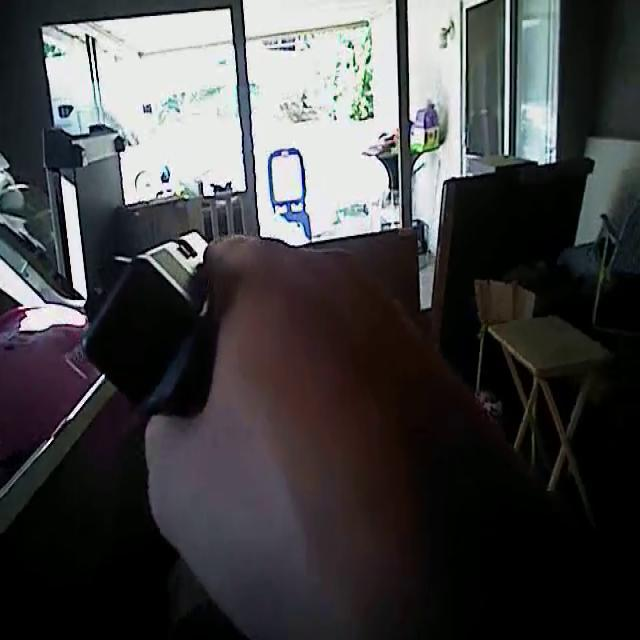gun: (57, 198, 258, 438)
